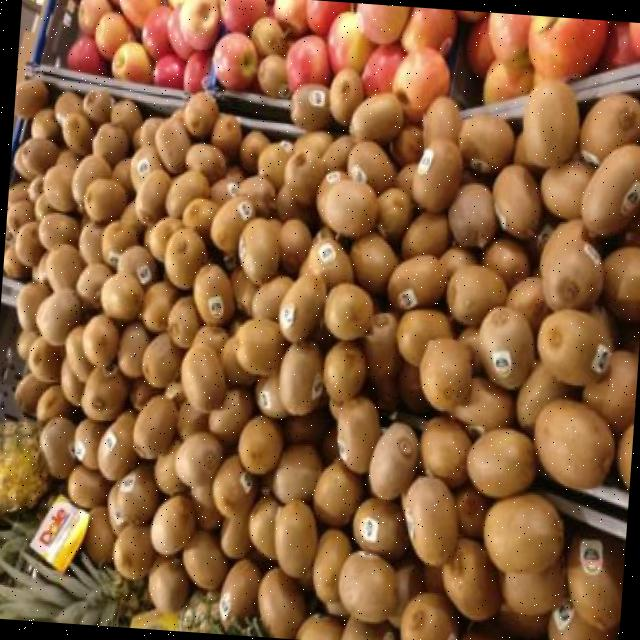kiwi: (533, 398, 614, 488), (484, 492, 564, 572), (567, 530, 625, 629), (537, 308, 611, 385), (540, 218, 602, 308), (583, 143, 640, 234), (466, 426, 536, 497), (403, 476, 458, 564), (442, 537, 501, 618), (524, 81, 579, 167), (479, 305, 534, 388), (583, 351, 638, 428), (580, 94, 640, 164), (339, 551, 397, 620), (419, 337, 472, 411), (501, 556, 567, 614), (369, 422, 419, 498), (446, 263, 507, 324), (492, 164, 542, 237), (451, 376, 515, 433), (517, 362, 570, 430), (413, 139, 462, 211), (352, 497, 408, 560), (259, 566, 307, 639), (421, 416, 470, 486), (395, 307, 453, 365), (274, 499, 317, 577), (387, 253, 446, 309), (458, 114, 514, 173), (279, 341, 324, 414), (278, 272, 326, 340), (337, 397, 380, 472), (448, 183, 497, 247), (324, 178, 377, 236), (315, 460, 363, 524), (180, 344, 226, 410), (540, 159, 593, 216), (350, 230, 398, 292), (272, 443, 322, 501), (239, 215, 281, 284), (211, 453, 257, 516), (97, 409, 138, 479), (349, 91, 403, 144), (234, 318, 285, 374), (400, 591, 458, 640), (219, 557, 260, 626), (133, 394, 177, 458), (602, 246, 640, 320), (324, 281, 373, 338), (312, 528, 351, 599), (322, 340, 366, 402), (35, 287, 82, 345), (237, 414, 283, 473), (164, 227, 207, 288), (182, 529, 227, 587), (209, 194, 254, 252), (547, 600, 612, 640), (174, 431, 223, 484), (151, 495, 195, 554), (81, 364, 128, 419), (116, 463, 159, 523), (208, 388, 253, 445), (103, 201, 142, 266), (193, 262, 234, 323), (348, 140, 396, 192), (147, 556, 190, 612), (306, 237, 354, 287), (363, 312, 400, 375), (506, 275, 548, 330), (483, 237, 530, 286), (113, 524, 155, 578), (283, 148, 322, 206), (388, 561, 423, 625), (141, 332, 182, 386), (39, 415, 75, 476), (401, 210, 449, 255), (100, 271, 144, 320), (165, 169, 209, 217), (329, 66, 364, 125), (134, 168, 171, 223), (83, 176, 128, 221), (377, 187, 413, 242), (66, 463, 110, 508), (72, 154, 111, 203), (155, 118, 190, 172), (13, 137, 58, 179), (251, 274, 292, 320), (422, 96, 461, 144), (249, 495, 278, 559), (143, 279, 178, 332), (82, 314, 119, 364), (290, 82, 330, 128), (117, 321, 149, 377), (219, 336, 255, 385), (167, 294, 200, 347), (46, 243, 83, 290), (185, 141, 227, 182), (258, 139, 293, 188), (280, 218, 311, 273), (154, 438, 185, 493), (84, 506, 115, 561), (27, 335, 63, 382), (117, 244, 158, 285), (315, 169, 347, 221), (16, 280, 50, 328), (92, 121, 129, 165), (182, 91, 218, 136), (75, 261, 111, 305), (458, 486, 489, 537), (38, 211, 79, 249), (43, 163, 75, 211), (66, 323, 92, 382), (147, 218, 182, 261), (239, 175, 275, 216), (182, 196, 217, 238), (219, 512, 251, 557), (130, 144, 162, 189), (15, 371, 49, 413), (256, 372, 287, 418), (35, 383, 72, 421), (341, 616, 398, 640), (62, 111, 93, 155), (211, 113, 241, 158), (295, 612, 343, 640), (15, 220, 44, 266), (230, 266, 257, 315), (14, 78, 48, 116), (177, 399, 208, 439), (440, 244, 477, 277), (240, 130, 269, 172), (321, 133, 353, 171), (110, 97, 142, 135), (107, 480, 129, 533), (82, 88, 112, 126), (616, 422, 633, 489), (192, 324, 228, 353), (293, 130, 332, 156), (6, 199, 34, 235), (129, 376, 159, 409), (30, 107, 60, 140), (79, 222, 103, 262), (3, 242, 29, 278), (133, 116, 162, 147), (55, 91, 82, 123), (461, 622, 507, 640), (210, 178, 239, 204), (395, 163, 417, 196), (112, 157, 133, 191), (18, 328, 37, 357), (7, 181, 28, 205), (31, 251, 47, 282), (34, 192, 53, 218), (55, 148, 80, 167), (191, 483, 214, 503)
